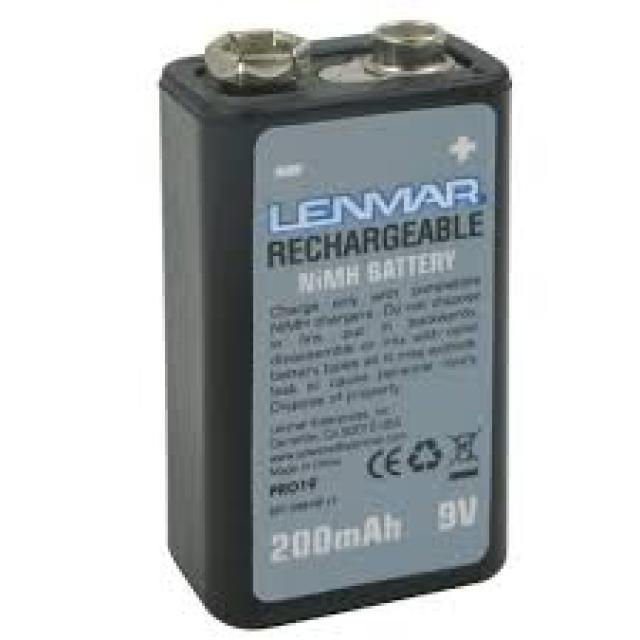9V: (158, 19, 512, 628)
